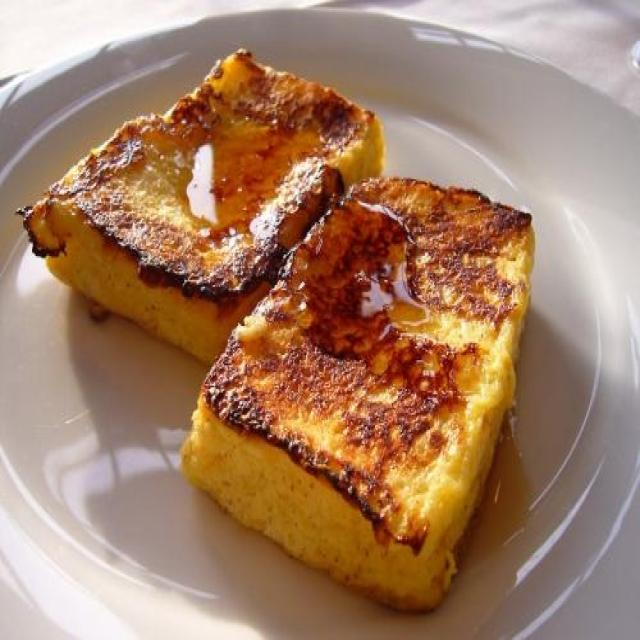面包点心: (9, 16, 630, 626)
